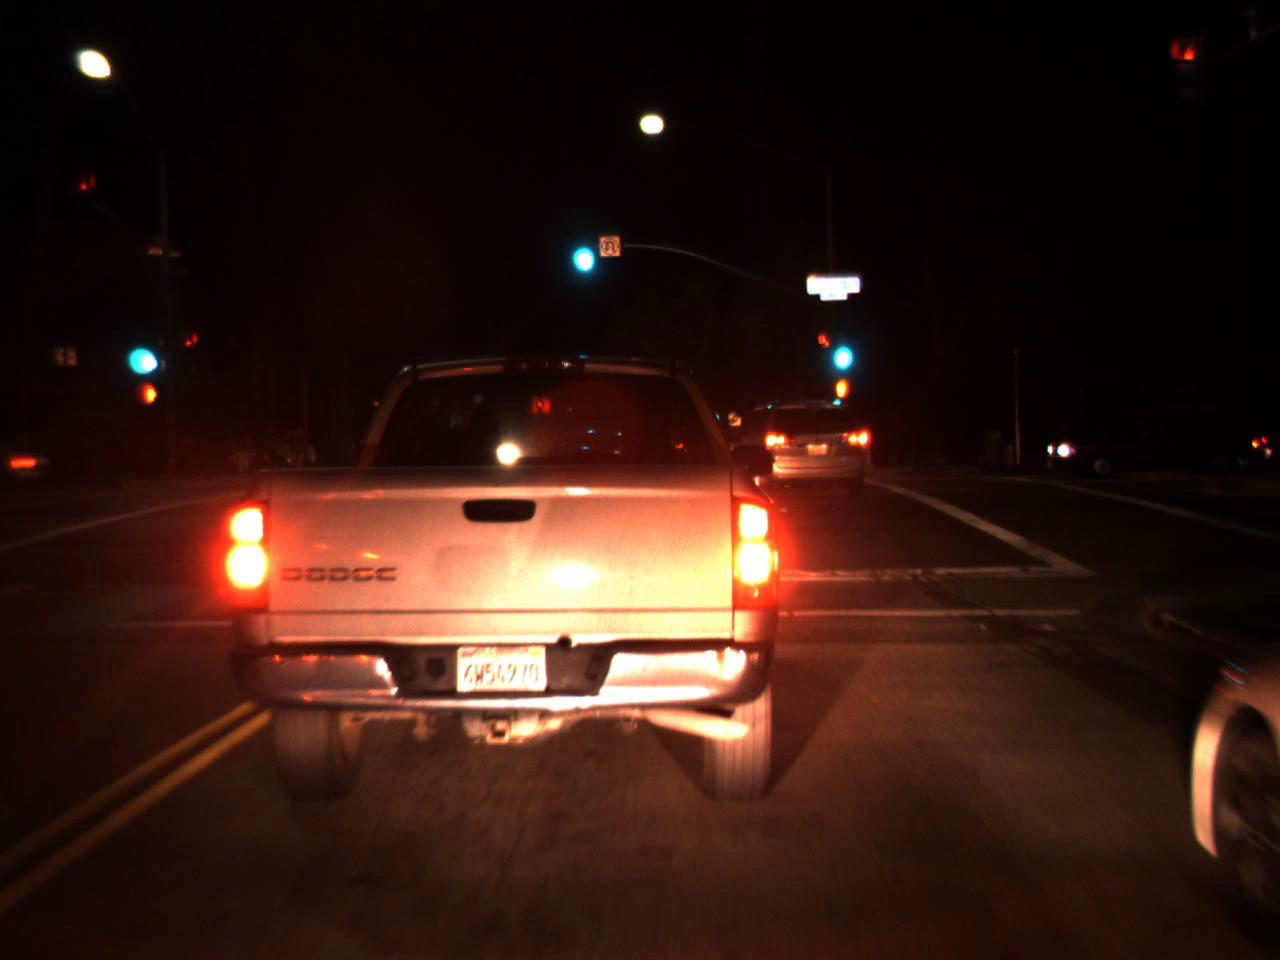go: (118, 315, 159, 384), (564, 213, 600, 282), (825, 314, 857, 380)
